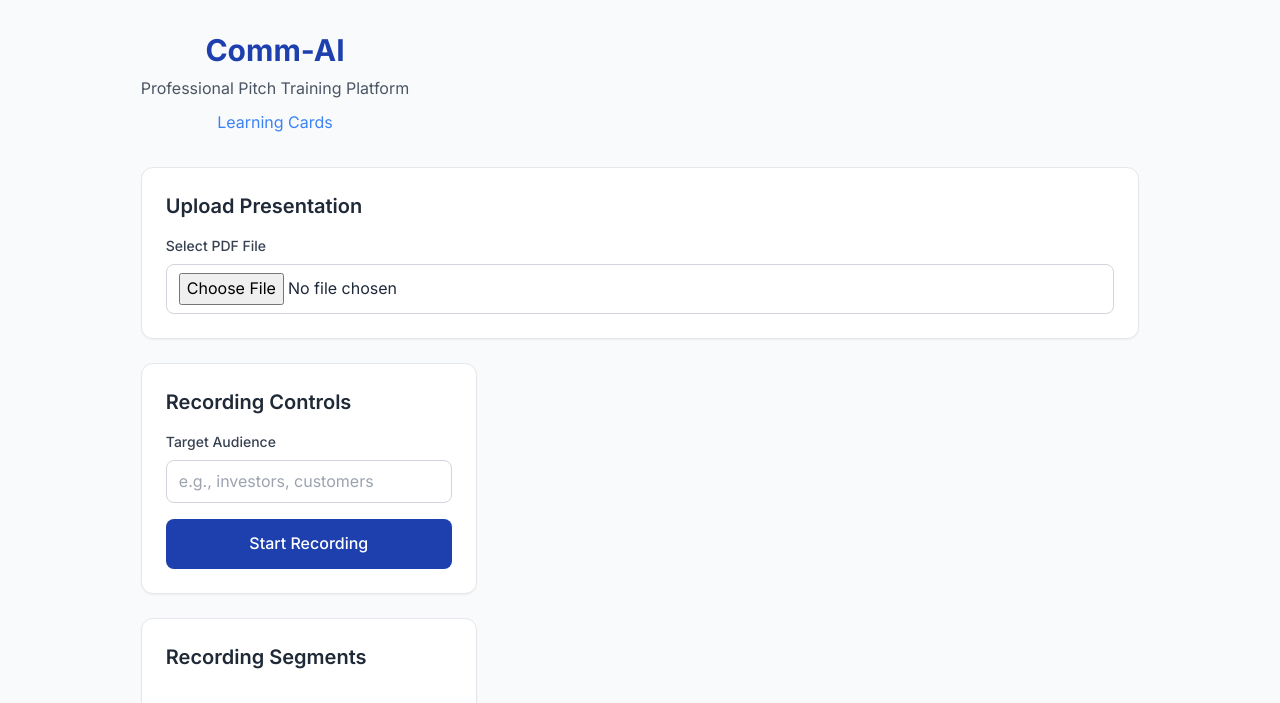
Test: PresenterPage Integration › shows custom typed audience in recording segments
Note: Type custom audience
In the field labelled "Target Audience": (309, 482) top-left (166, 460), bottom-right (452, 503), type "board members"
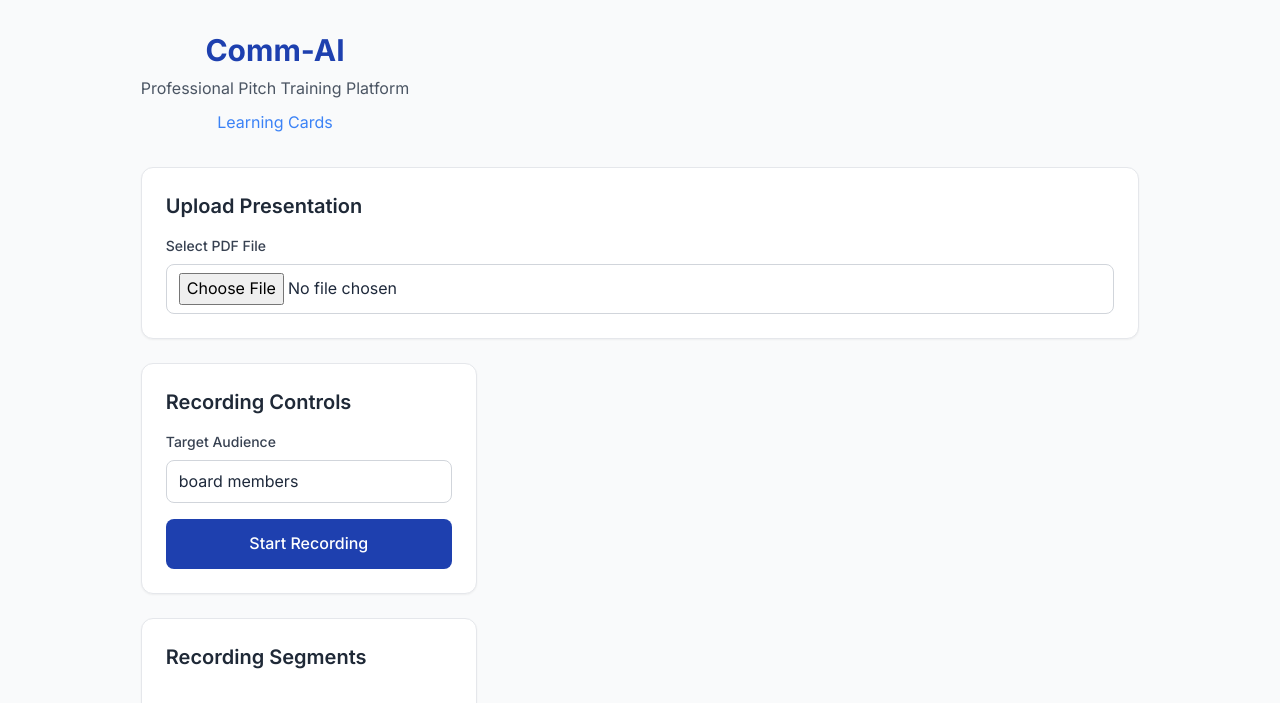
Note: Start and stop recording to create a segment
Click the button "Start Recording": click(309, 544) top-left (166, 519), bottom-right (452, 569)
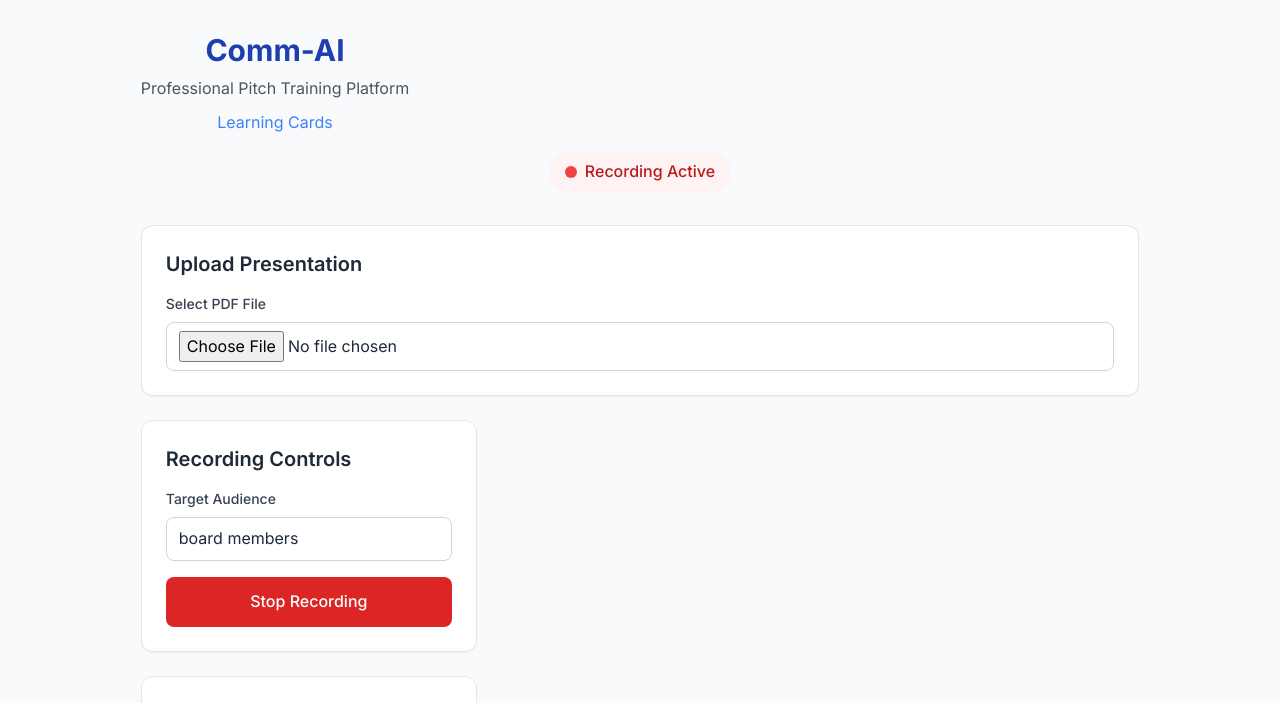
Click the button "Stop Recording": click(309, 602) top-left (166, 577), bottom-right (452, 627)
(page scrolled)
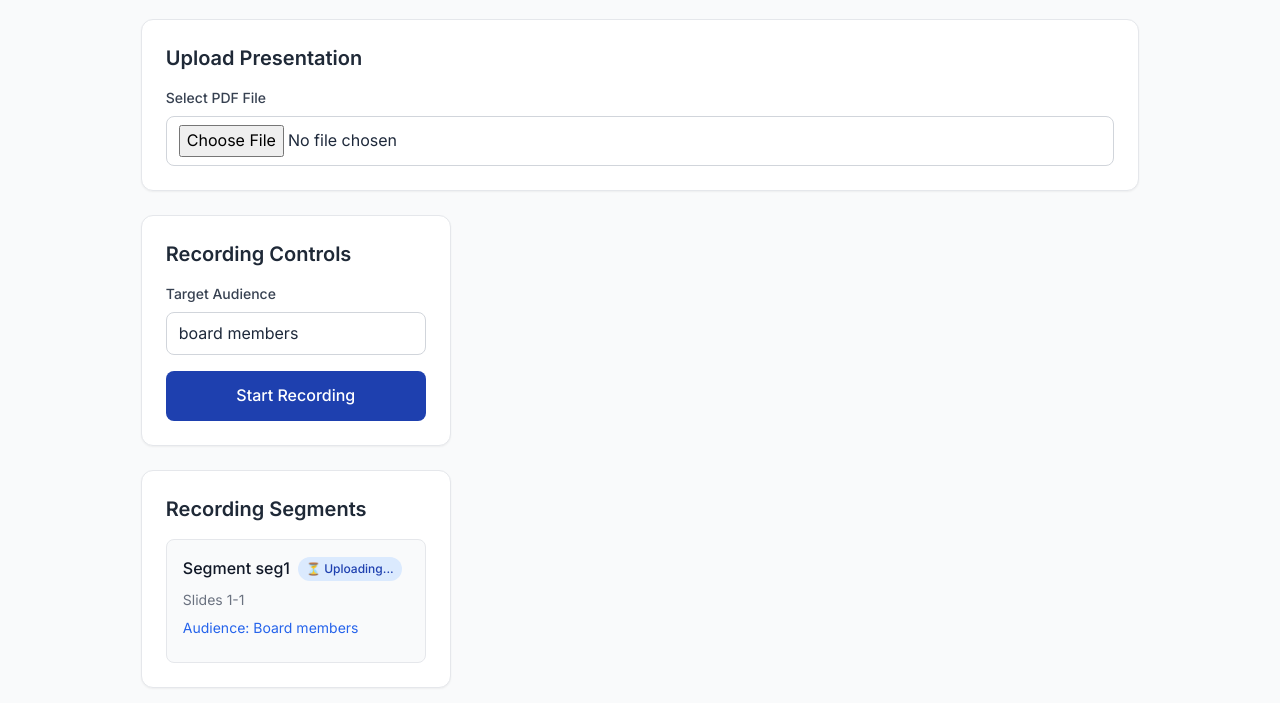
Expected: the text "Audience: Board members" is shown, top-left (183, 619), bottom-right (358, 636)
